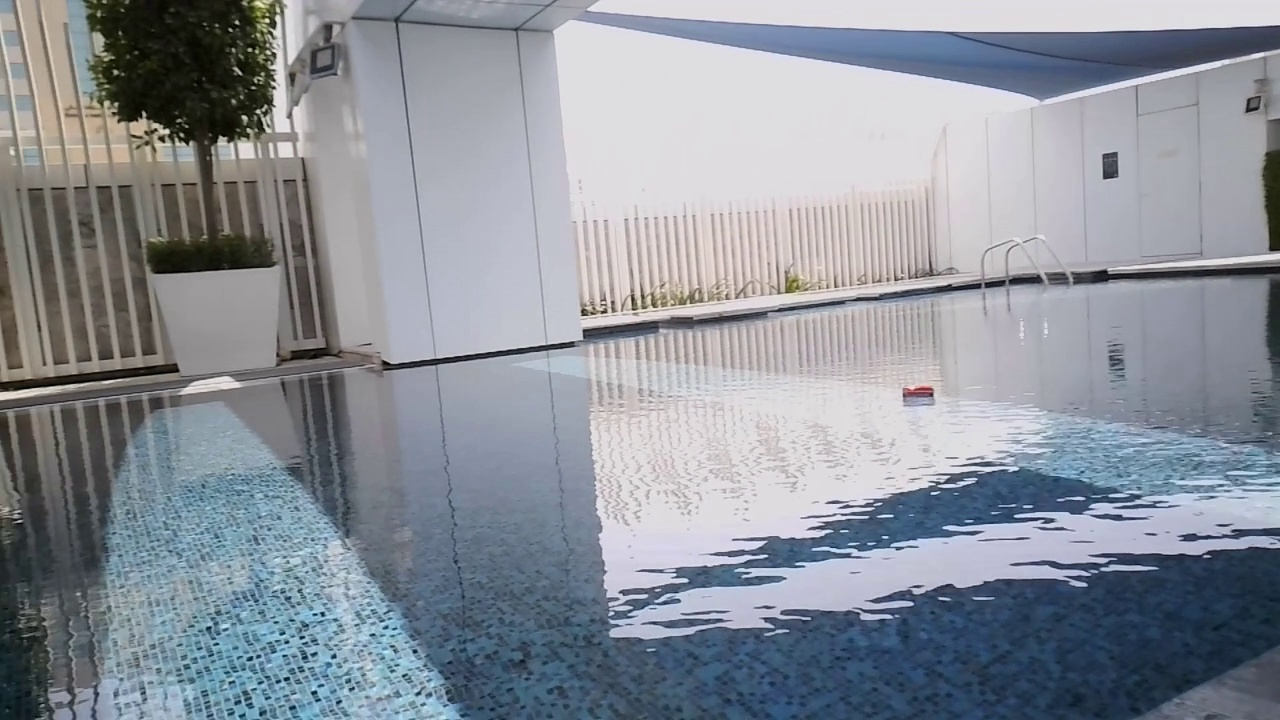debris: (898, 379, 939, 407)
